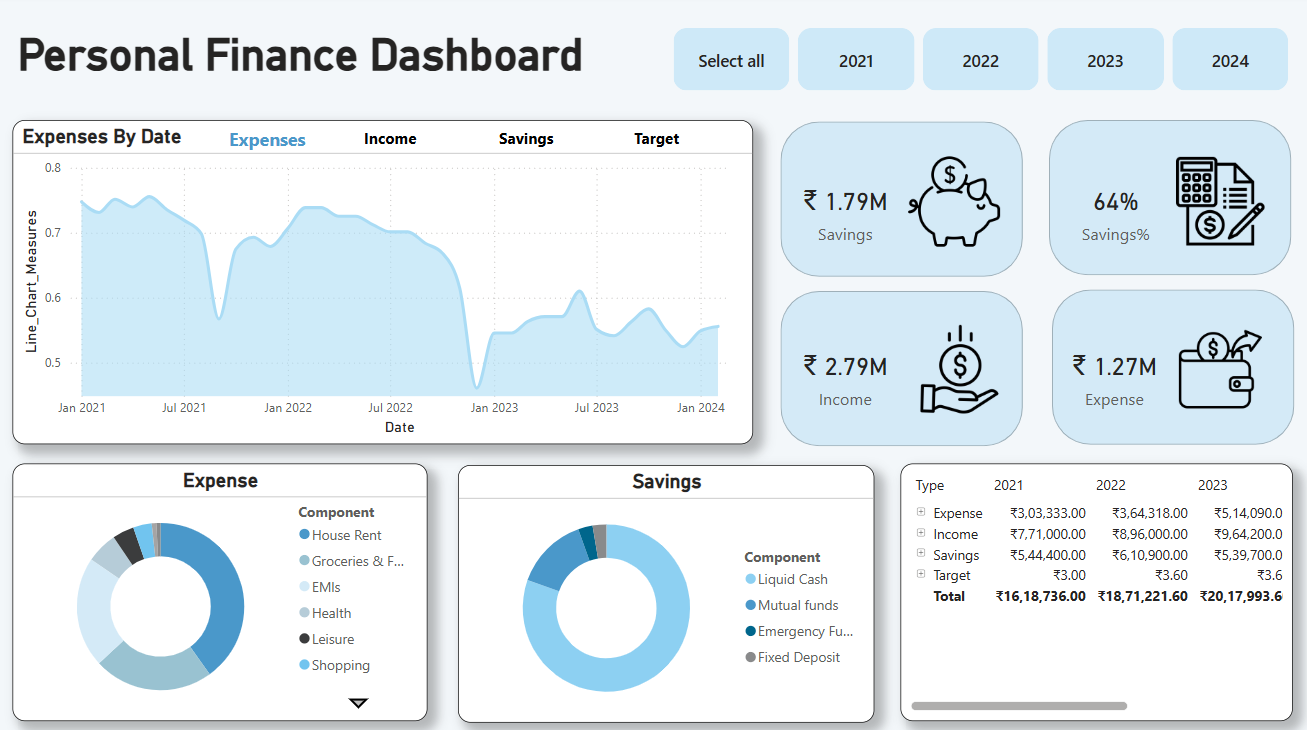

The page's visual inventory and layout, read from the dashboard file:
{"tool":"powerbi","page":{"name":"Page 1","canvas":[1280,720],"ordinal":0},"visuals":[{"type":"shape","box":[763.6,124.2,235.2,150.7],"z":0},{"type":"card","fields":{"Values":["Dataset.Saving"]},"box":[763.6,169,125.9,84.5],"z":1000},{"type":"shape","box":[1027,286.6,235.2,150.7],"z":2000},{"type":"shape","box":[1025.4,122.6,235.2,150.7],"z":3000},{"type":"shape","box":[763.6,288.2,235.2,150.7],"z":4000},{"type":"card","fields":{"Values":["Dataset.Expense"]},"box":[1027,328,120.9,86.1],"z":5000},{"type":"card","fields":{"Values":["Dataset.Income"]},"box":[763.6,328,125.9,86.1],"z":6000},{"type":"card","fields":{"Values":["Dataset.Savings%"]},"box":[1028.7,169,120.9,84.5],"z":7000},{"type":"advancedSlicerVisual","fields":{"Values":["Dataset.Year"]},"box":[654.3,28.2,607.9,71.2],"z":8000},{"type":"donutChart","title":"Savings","fields":{"Category":["Dataset.Component"],"Y":["Dataset.Savings"]},"box":[450.6,457.2,404.2,250.1],"z":9000},{"type":"donutChart","title":"Expense","fields":{"Category":["Dataset.Component"],"Y":["Dataset.Expense"]},"box":[18.2,455.5,402.5,250.1],"z":10000},{"type":"pivotTable","fields":{"Values":["Dataset.Total_Value"],"Rows":["Dataset.Type","Dataset.Component"],"Columns":["Dataset.Year"]},"box":[881.2,455.5,381,250.1],"z":11000},{"type":"areaChart","fields":{"Category":["Dataset.Date"],"Y":["Dataset.Line_Chart_Measures"]},"box":[18.2,122.6,718.9,314.7],"z":12000},{"type":"advancedSlicerVisual","fields":{"Values":["Line_Selection_Table.Type"]},"box":[210.4,111,526.8,58],"z":13000},{"type":"image","box":[889.5,314.7,96.1,99.4],"z":13005},{"type":"image","box":[881.2,150.7,104.4,99.4],"z":13006},{"type":"image","box":[1143,314.7,96.1,99.4],"z":13007},{"type":"image","box":[1143,150.7,96.1,99.4],"z":13008},{"type":"textbox","box":[18.2,28.2,571.5,69.6],"z":13009}]}

Visuals, with their boxes in screenshot pixels (x1, y1, x2, y2), scaled from the page's 1280x720 canvas onto the 1307x730 screenshot:
shape: 780,126,1020,279
card - Dataset.Saving: 780,171,908,257
shape: 1049,291,1289,443
shape: 1047,124,1287,277
shape: 780,292,1020,445
card - Dataset.Expense: 1049,333,1172,420
card - Dataset.Income: 780,333,908,420
card - Dataset.Savings%: 1050,171,1174,257
advancedSlicerVisual - Dataset.Year: 668,29,1289,101
"Savings" donutChart: 460,464,873,717
"Expense" donutChart: 19,462,430,715
pivotTable - Dataset.Total_Value x Dataset.Type: 900,462,1289,715
areaChart - Dataset.Date x Dataset.Line_Chart_Measures: 19,124,753,443
advancedSlicerVisual - Line_Selection_Table.Type: 215,113,753,171
image: 908,319,1006,420
image: 900,153,1006,254
image: 1167,319,1265,420
image: 1167,153,1265,254
textbox: 19,29,602,99
